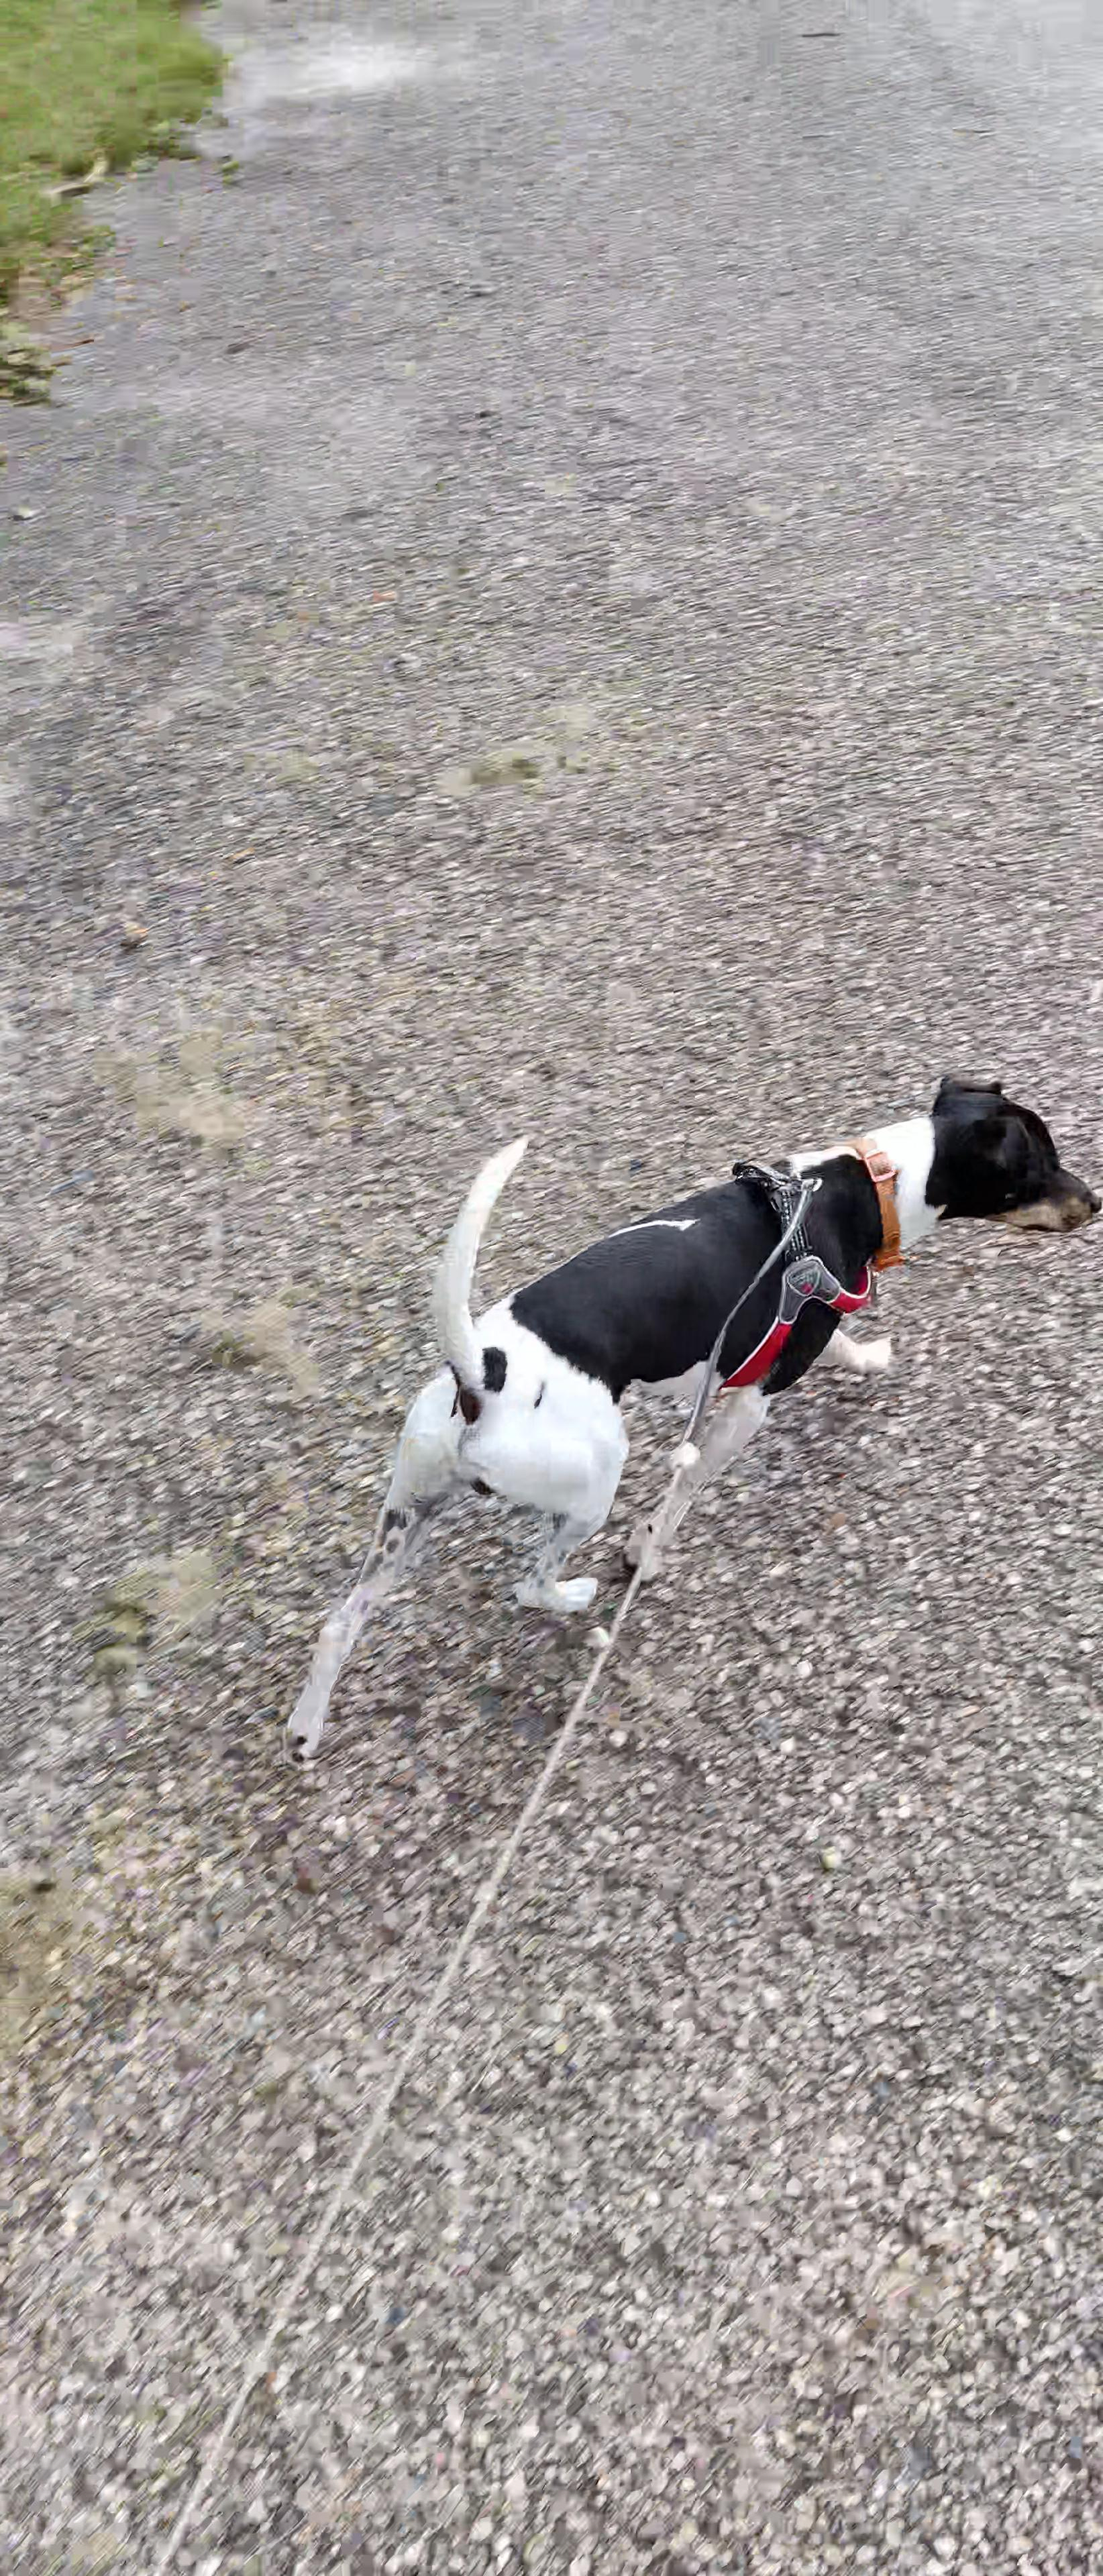Dog: (268, 1071, 1103, 1782)
